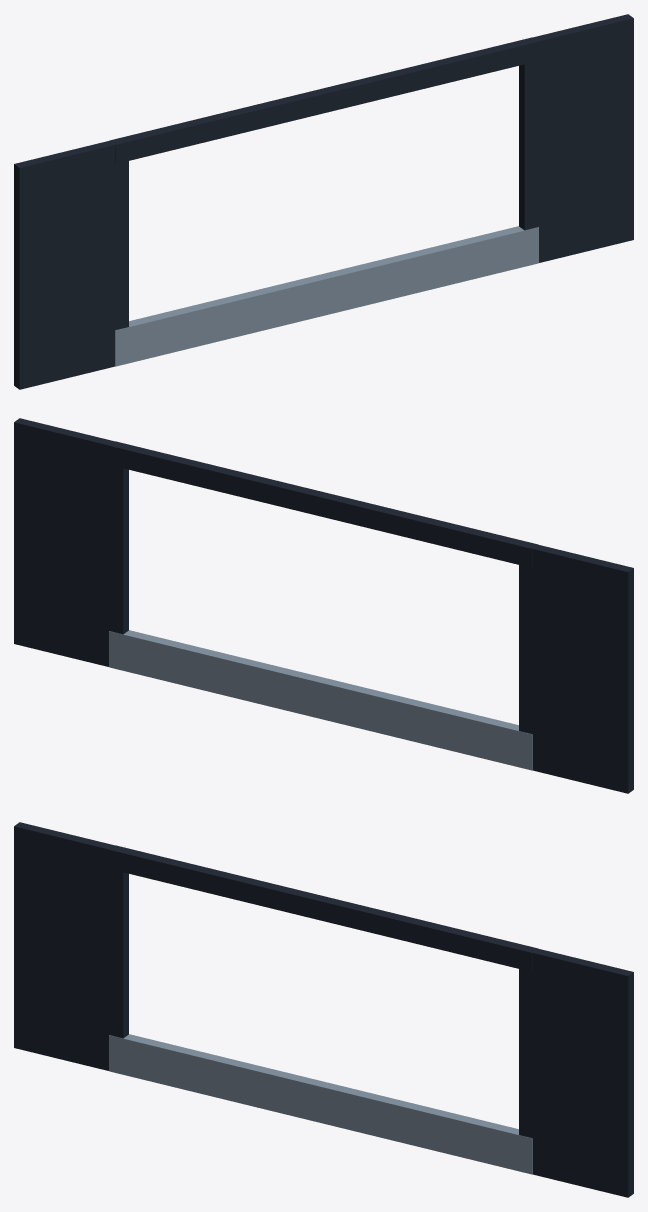
File: 03_PS_Studio_RearWallPanorama.fbx
The picture shows the model from 3 angles, top to bottom: view 1: azimuth 30°, elevation 25°; view 2: azimuth 150°, elevation 25°; view 3: azimuth 330°, elevation 25°; orthographic projection.
Visible parts, largest first — view 1: PS_Studio_RearWallPanorama; view 2: PS_Studio_RearWallPanorama; view 3: PS_Studio_RearWallPanorama.
Boxes of the visible parts, x1,y1,x2,y2 form: PS_Studio_RearWallPanorama: [14, 14, 633, 389]; PS_Studio_RearWallPanorama: [14, 418, 633, 793]; PS_Studio_RearWallPanorama: [14, 822, 633, 1197].
Size of the model in its own units: 1740 by 600 by 30.
